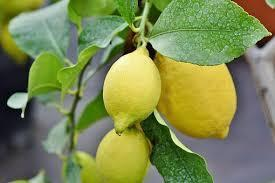lemon: (154, 51, 238, 140), (103, 45, 162, 134), (96, 126, 150, 183), (62, 150, 96, 183)
